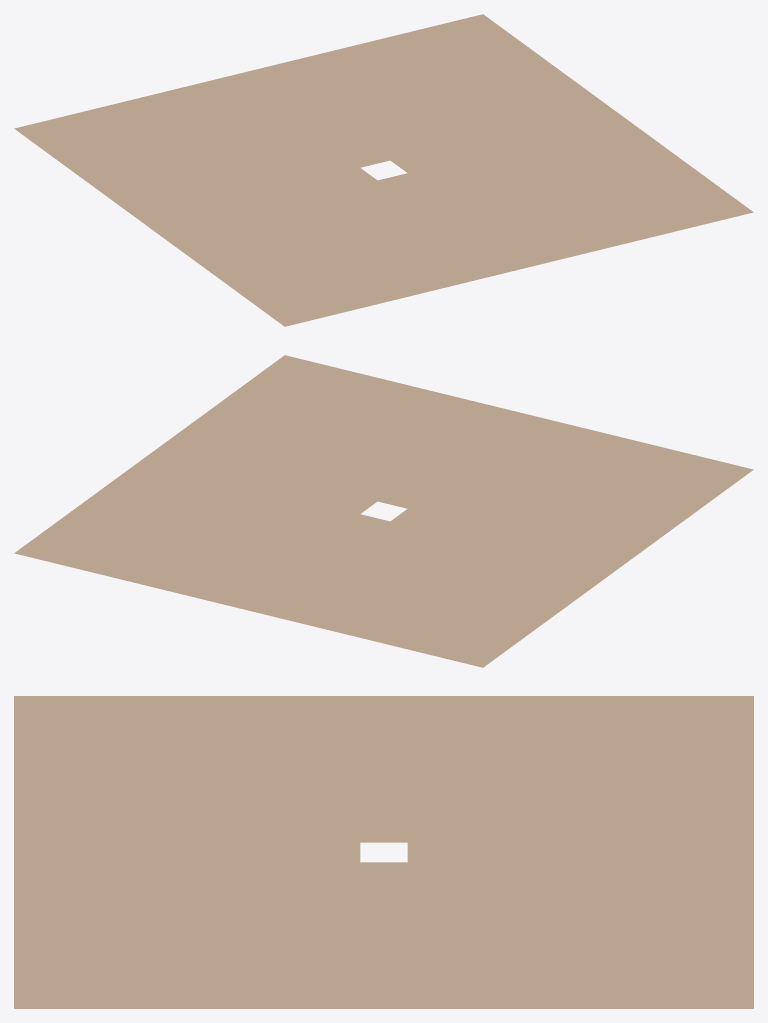
The picture shows the model from 3 angles, top to bottom: view 1: azimuth 30°, elevation 25°; view 2: azimuth 150°, elevation 25°; view 3: azimuth 270°, elevation 25°; orthographic projection. The views are drawn at different scales.
Parts seen in each view (by area): view 1: FarGround_L1_3; view 2: FarGround_L1_3; view 3: FarGround_L1_3.
Boxes of the visible parts, x1=… form: FarGround_L1_3: x1=14, y1=14, x2=753, y2=326; FarGround_L1_3: x1=14, y1=355, x2=753, y2=667; FarGround_L1_3: x1=14, y1=696, x2=753, y2=1008.
Size of the model in its own units: 6000 by 0 by 6000.
